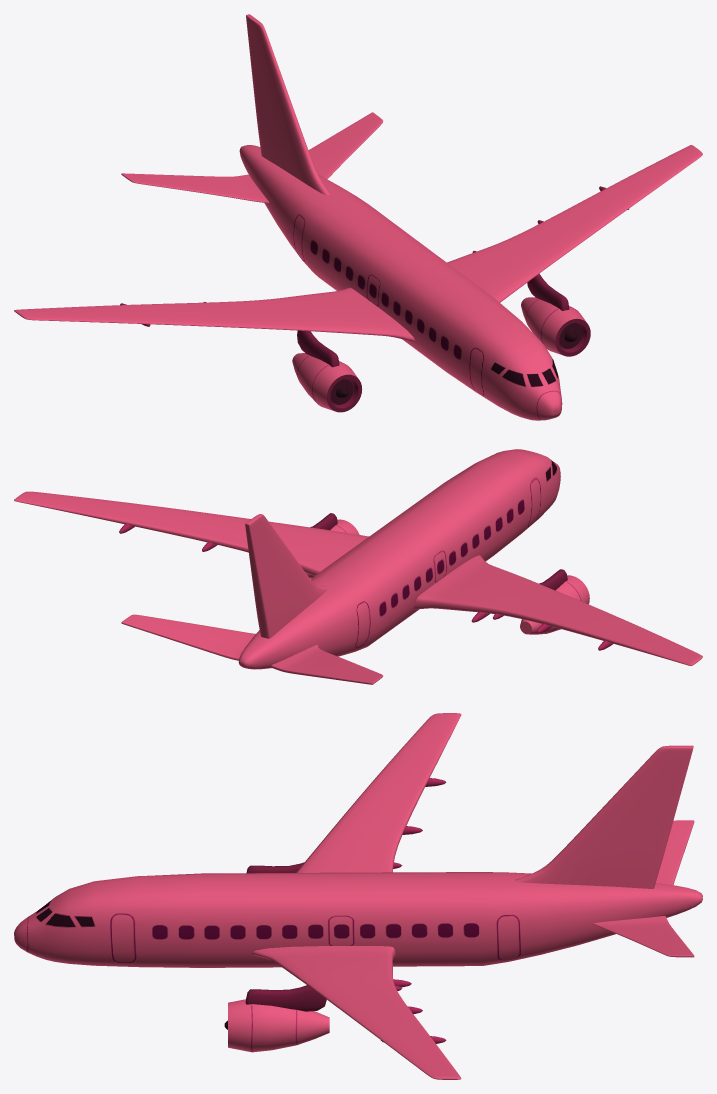
File: airbus318_pink.glb
3 views of the same model, one above another, from view 1: azimuth 30°, elevation 25°; view 2: azimuth 150°, elevation 25°; view 3: azimuth 270°, elevation 25° (orthographic). The views are drawn at different scales.
Parts seen in each view (by area): view 1: airbus318, wings, wing-back-vertical, turbine, wings-back-horizontal, turbine-pad; view 2: airbus318, wings, wing-back-vertical, wings-back-horizontal, turbine, turbine-pad; view 3: airbus318, wings, wing-back-vertical, turbine, wings-back-horizontal, turbine-pad.
Part boxes in pixels (left/top/right/bottom): airbus318: left=239, top=145, right=562, bottom=420; wings: left=14, top=145, right=702, bottom=341; wing-back-vertical: left=246, top=14, right=329, bottom=195; turbine: left=292, top=297, right=590, bottom=412; wings-back-horizontal: left=121, top=112, right=383, bottom=203; turbine-pad: left=297, top=273, right=569, bottom=367; airbus318: left=238, top=449, right=560, bottom=669; wings: left=14, top=491, right=702, bottom=665; wing-back-vertical: left=245, top=514, right=329, bottom=638; wings-back-horizontal: left=121, top=614, right=382, bottom=684; turbine: left=306, top=519, right=589, bottom=634; turbine-pad: left=310, top=513, right=567, bottom=590; airbus318: left=14, top=872, right=702, bottom=967; wings: left=251, top=713, right=461, bottom=1079; wing-back-vertical: left=515, top=745, right=693, bottom=888; turbine: left=224, top=999, right=329, bottom=1052; wings-back-horizontal: left=592, top=820, right=694, bottom=957; turbine-pad: left=245, top=862, right=326, bottom=1011.
Bounding box in the file's own units: 4.66 × 1.44 × 3.71.
Materials: 1 (1 with a texture image).
